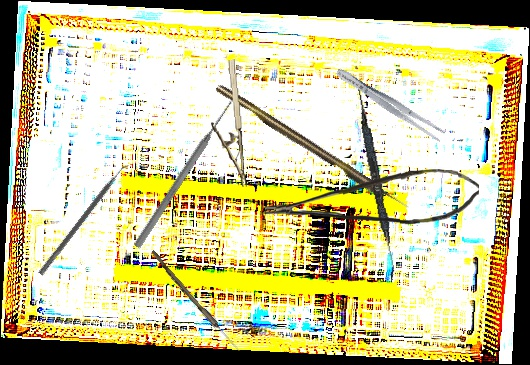Dressing Forceps: (333, 64, 447, 144)
Hook Surgical: (214, 81, 411, 215)
Micro Scissor: (264, 164, 480, 226)
Needle Holder: (206, 59, 248, 189)
Pusher: (132, 97, 237, 250)
Spatula Surgical: (38, 160, 132, 280), (350, 85, 403, 280)
Surgical Spoon: (148, 249, 243, 354)
